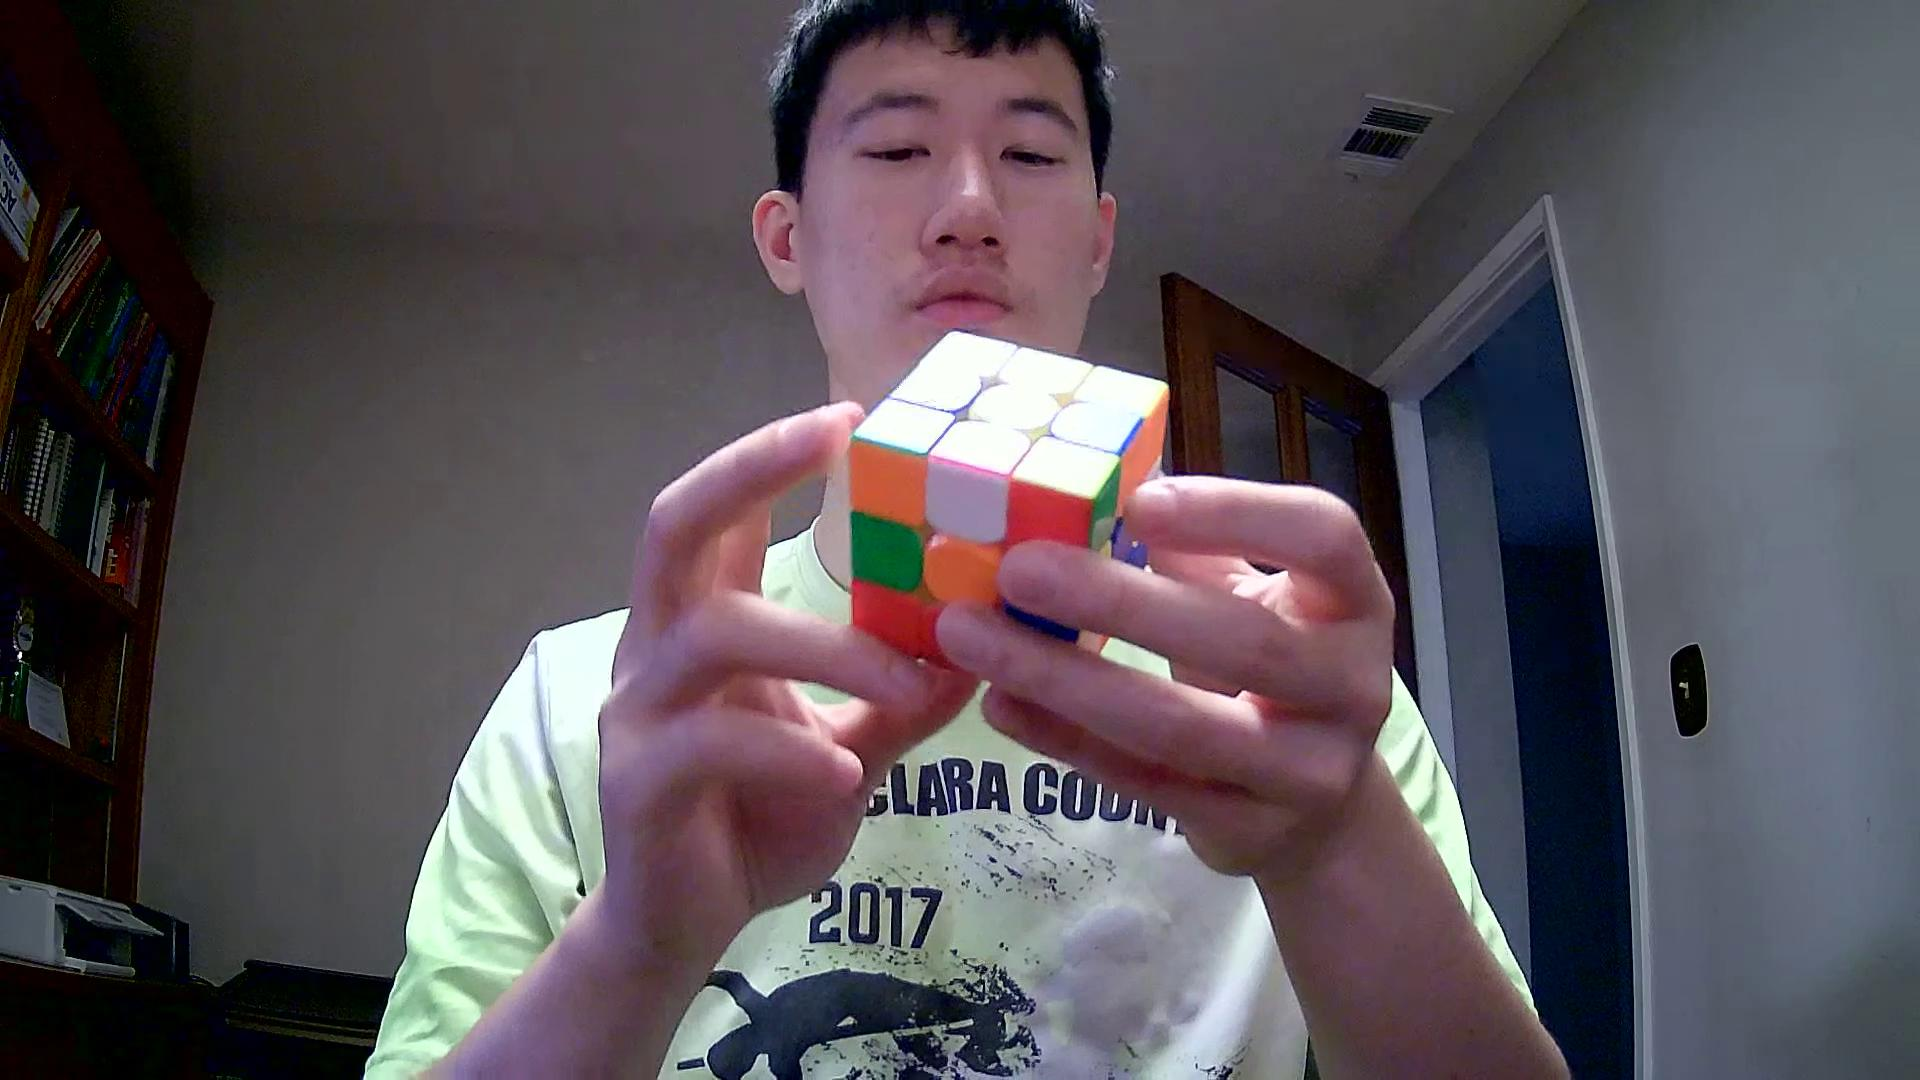Rubiks-Cube: (843, 332, 1185, 675)
